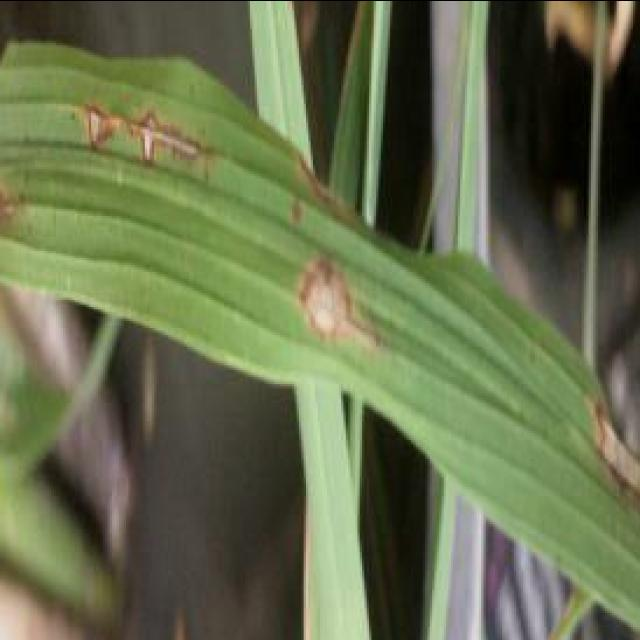Leaf_Blast: (255, 248, 400, 366), (268, 121, 381, 271), (56, 63, 145, 194), (560, 378, 640, 513), (117, 96, 206, 194), (0, 168, 23, 250)
